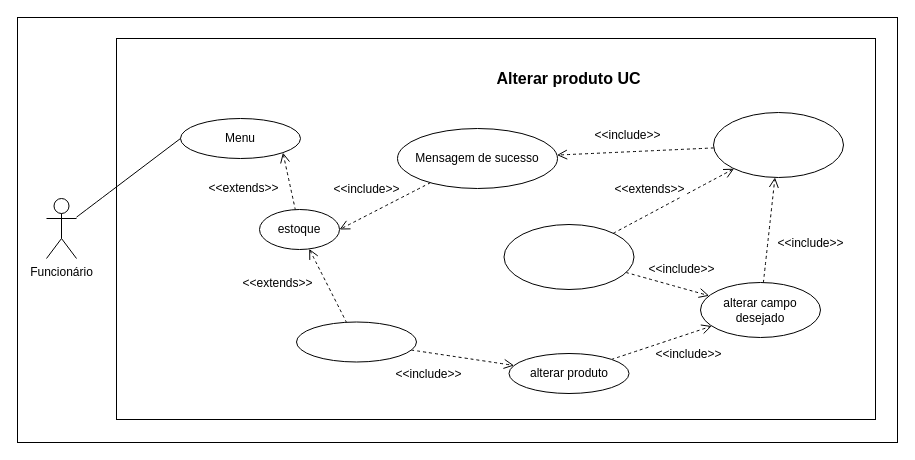
This 915x460 diagram has some shape labels left out. The centre of each missing label's shape, as x and y in pixels:
aguarde confirmação de usuario: point 778,145
Erro inesperado: point 568,257
selecionar um produto: point 356,341
